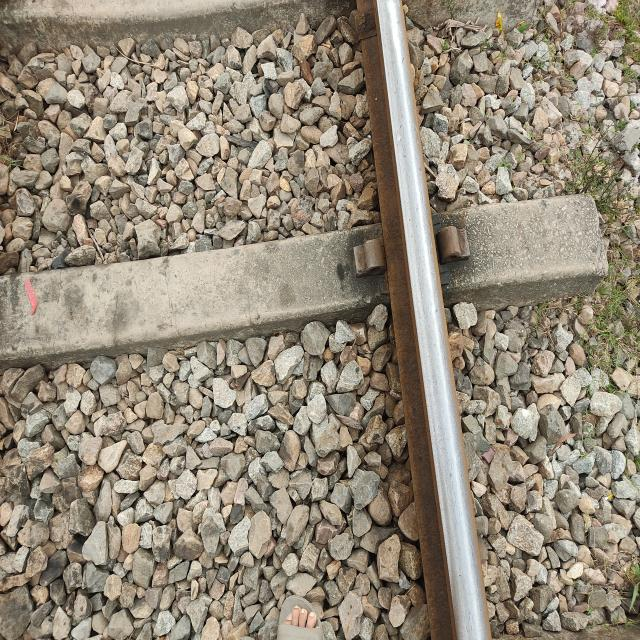fault: (435, 216, 481, 278), (348, 230, 389, 296)
